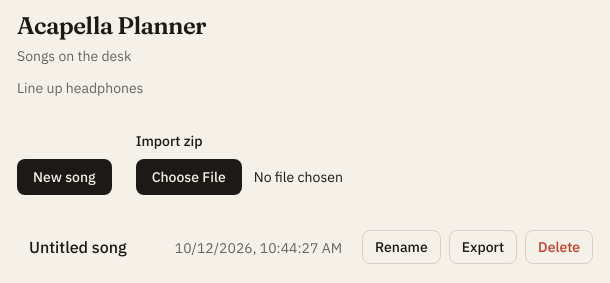
it: HomePage › renames a song from the list and persists the new title
Expected: the text "Untitled song" is shown, [29, 235, 127, 259]
Click the button with aria-label "Rename Untitled song" at coordinates (401, 247), box [362, 230, 441, 264]
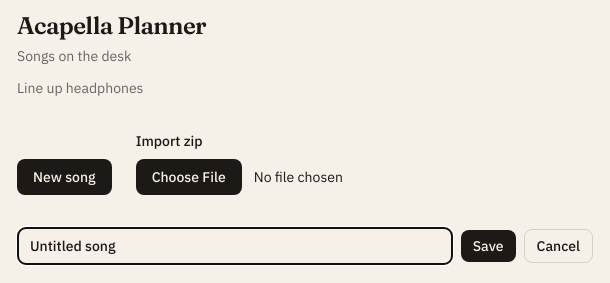
Replace the text in the field named "Song name" with "  Autumn Leaves  " at coordinates (235, 246), box [17, 227, 453, 265]
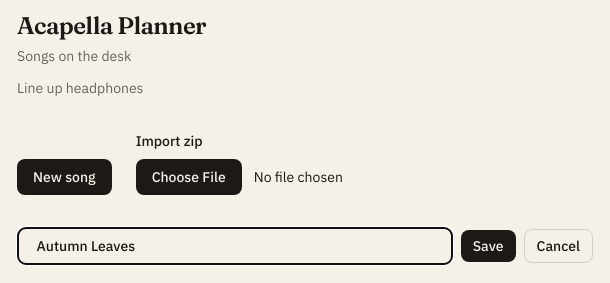
Click the button "Save" at coordinates (488, 246), box [461, 230, 516, 262]
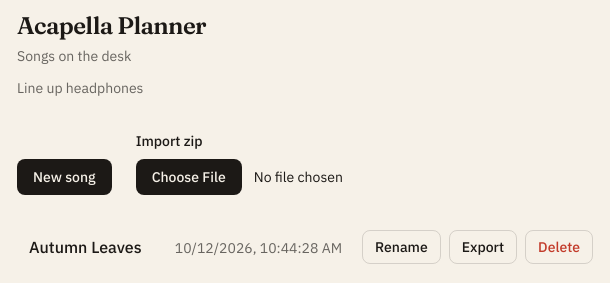
Expected: the text "Autumn Leaves" is shown, [29, 235, 142, 259]
